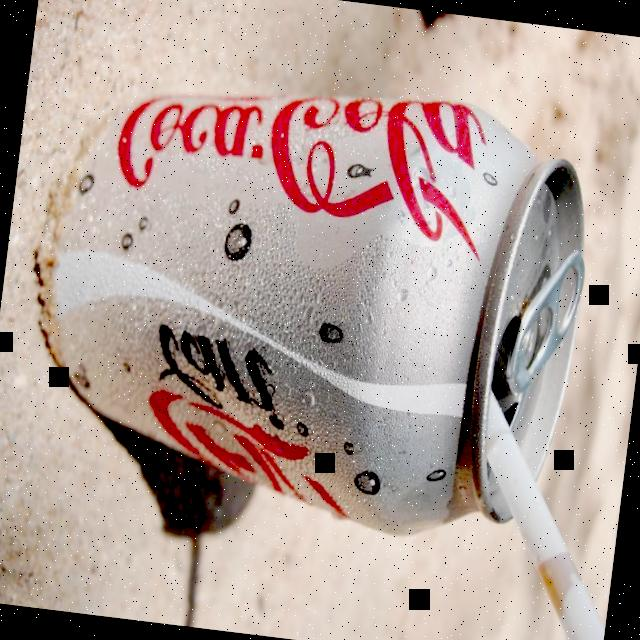can: (12, 36, 609, 558)
